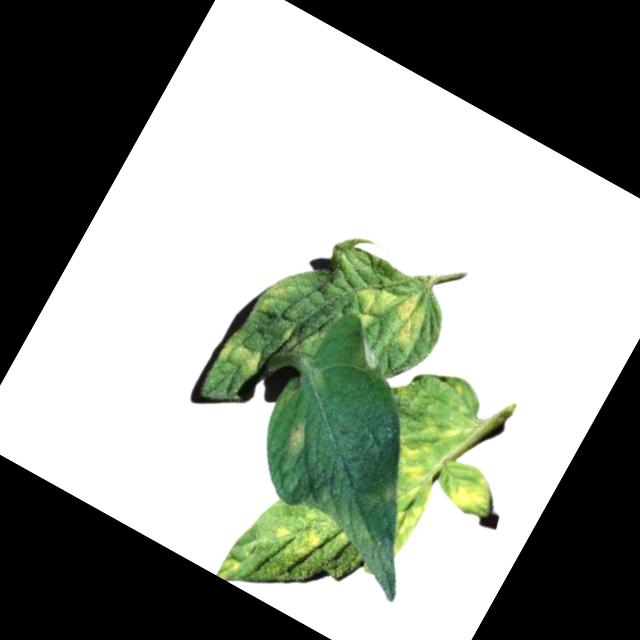Leaf_Mold: (353, 399, 473, 555), (343, 266, 439, 357), (267, 511, 329, 571), (443, 468, 501, 522), (216, 335, 267, 381), (255, 276, 292, 319), (282, 416, 315, 453), (215, 551, 248, 585)
